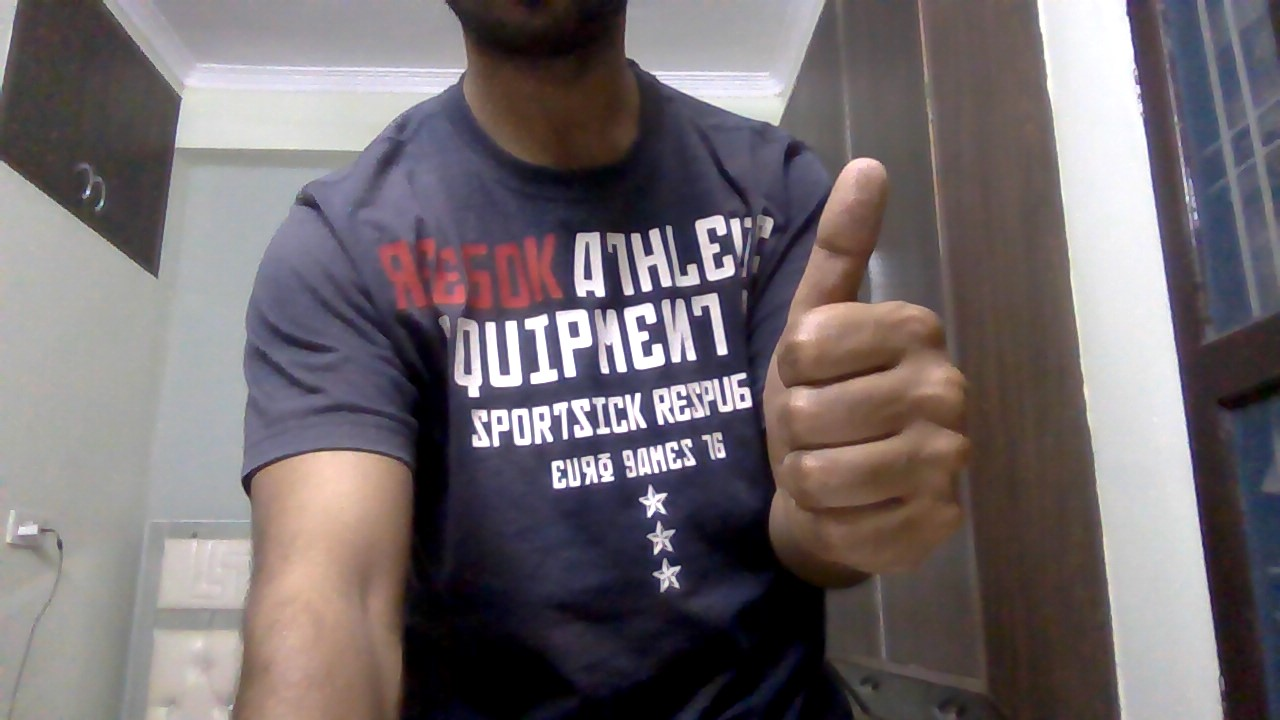Save: (755, 152, 1002, 592)
